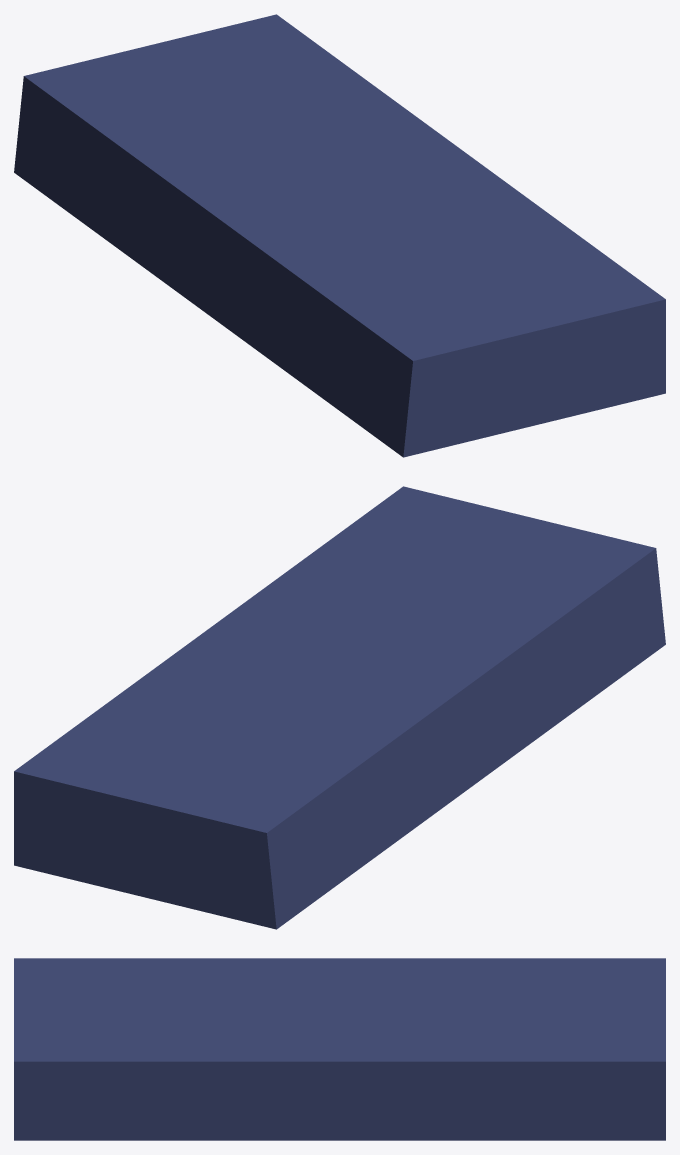
The picture shows the model from 3 angles, top to bottom: view 1: azimuth 30°, elevation 25°; view 2: azimuth 150°, elevation 25°; view 3: azimuth 270°, elevation 25°; orthographic projection. The views are drawn at different scales.
Parts seen in each view (by area): view 1: geometry_16; view 2: geometry_16; view 3: geometry_16.
Boxes of the visible parts, x1,y1,x2,y2 form: geometry_16: [14, 14, 665, 457]; geometry_16: [14, 486, 665, 929]; geometry_16: [14, 958, 665, 1140].
Size of the model in its own units: 0.0156 by 0.00534 by 0.04.
